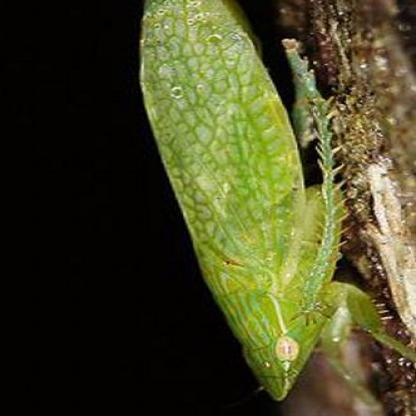green-leafhopper: (141, 1, 406, 400)
